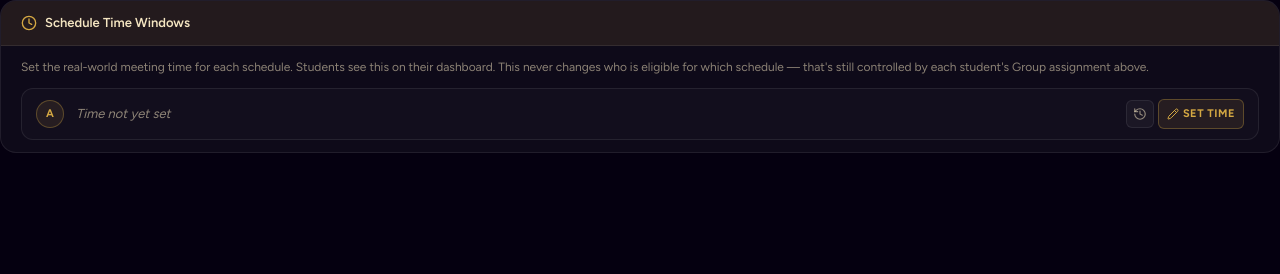
Scenario: a rejected save (e.g. end before start, per backend validation) surfaces the real backend error inline
Click the button with test id "schedule-time-window-edit-A" at (1201, 114), box x1=1158 y1=98 x2=1244 y2=129
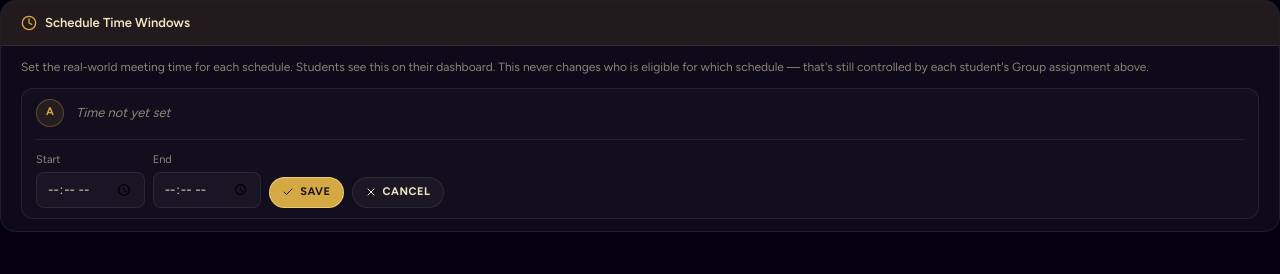
Type "20:00" into the time field with test id "schedule-time-window-start-A" at (90, 190), box x1=36 y1=172 x2=145 y2=208
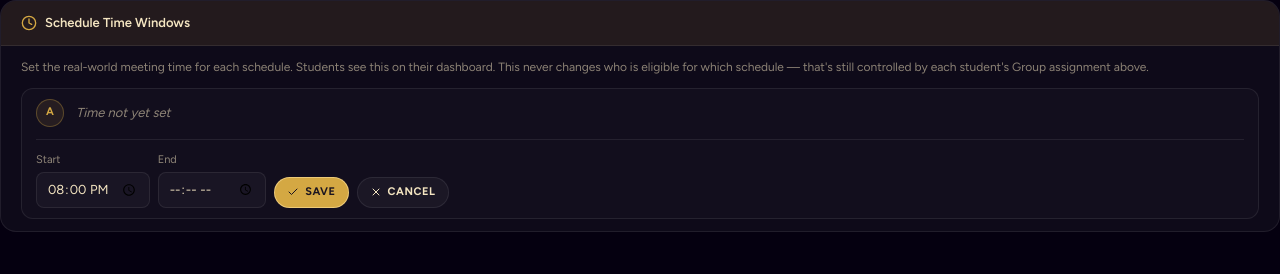
Type "07:00" into the time field with test id "schedule-time-window-end-A" at (212, 190), box x1=158 y1=172 x2=266 y2=208
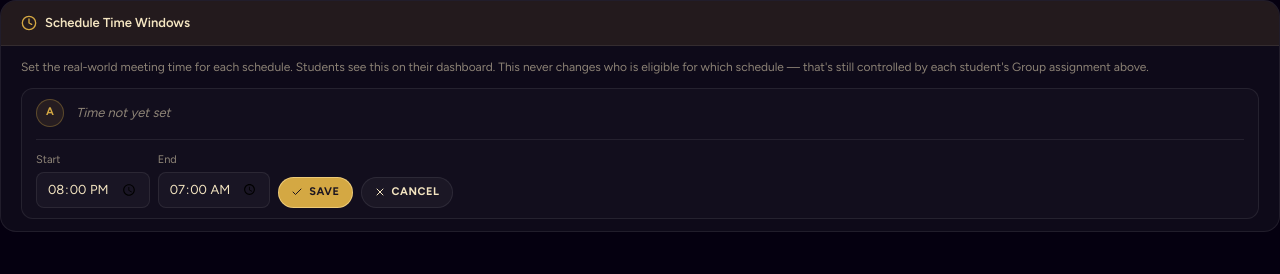
Click the button with test id "schedule-time-window-save-A" at (315, 192), box x1=278 y1=177 x2=353 y2=208
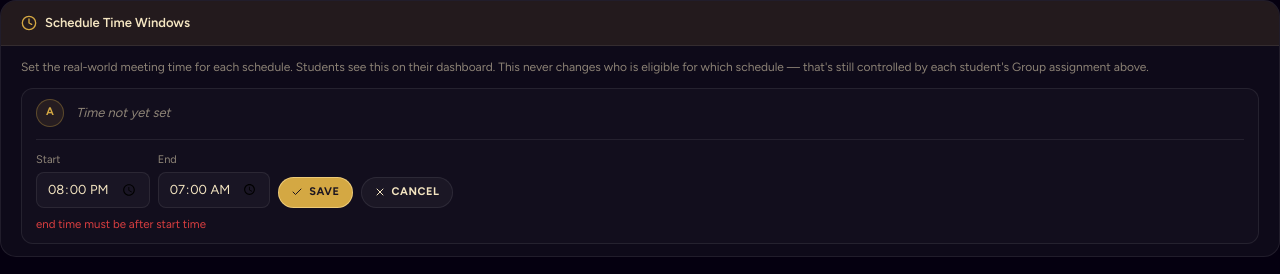
Expected: the text with test id "schedule-time-window-display-A" reads "Time not yet set", x1=76 y1=105 x2=170 y2=120
Expected: the text with test id "schedule-time-window-form-error-A" reads "end time must be after start time", x1=36 y1=216 x2=206 y2=230
